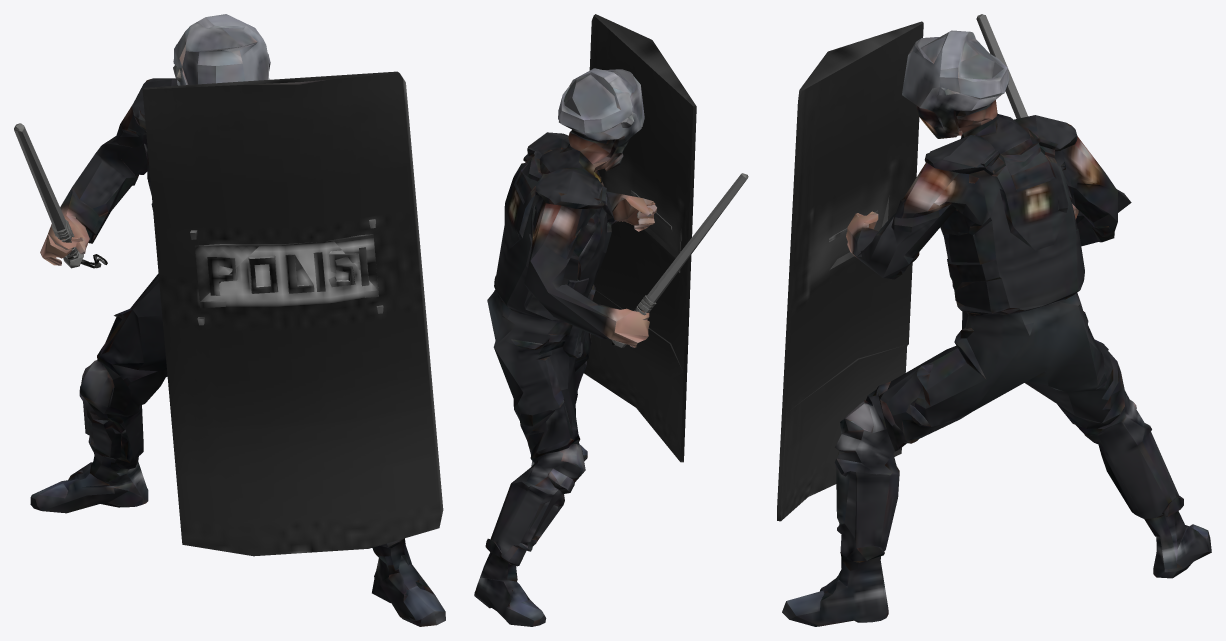
File: brimob_phh_idle_lod2.glb
3 renders of one model, left to right at view 1: azimuth 30°, elevation 25°; view 2: azimuth 150°, elevation 25°; view 3: azimuth 270°, elevation 25°, orthographic. The views are drawn at different scales.
Visible parts, largest first — view 1: body; view 2: body; view 3: body.
Boxes of the visible parts, left/top/right/bottom form: body: left=14, top=14, right=445, bottom=626; body: left=474, top=14, right=748, bottom=626; body: left=777, top=14, right=1211, bottom=626.
Size of the model in its own units: 55.22 by 89.99 by 67.04.
3 materials, 3 textured.
